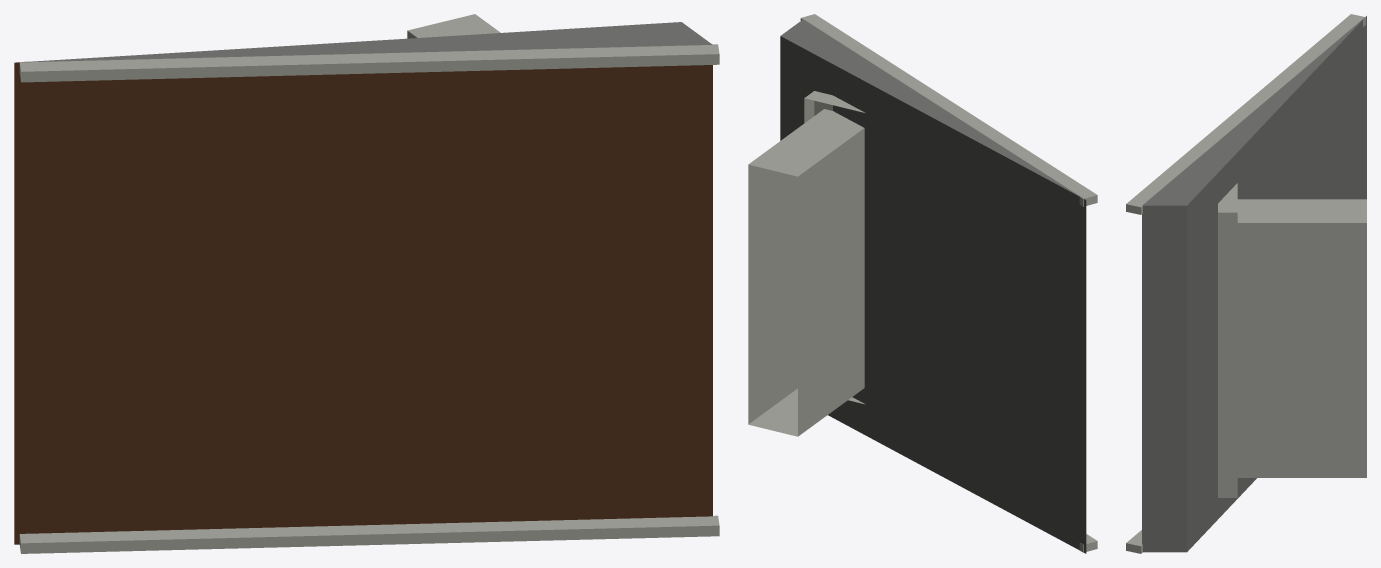
Rendered from ramp.glb.
The picture shows the model from 3 angles, left to right: view 1: azimuth 30°, elevation 25°; view 2: azimuth 150°, elevation 25°; view 3: azimuth 270°, elevation 25°; orthographic projection. The views are drawn at different scales.
Visible parts, largest first — view 1: bridge_02_ramp; view 2: bridge_02_ramp; view 3: bridge_02_ramp.
Boxes of the visible parts, <box> form: bridge_02_ramp: <box>14,14,719,553</box>; bridge_02_ramp: <box>748,14,1097,553</box>; bridge_02_ramp: <box>1126,14,1366,553</box>.
Bounding box in the file's own units: 16.27 × 13.6 × 8.57.
